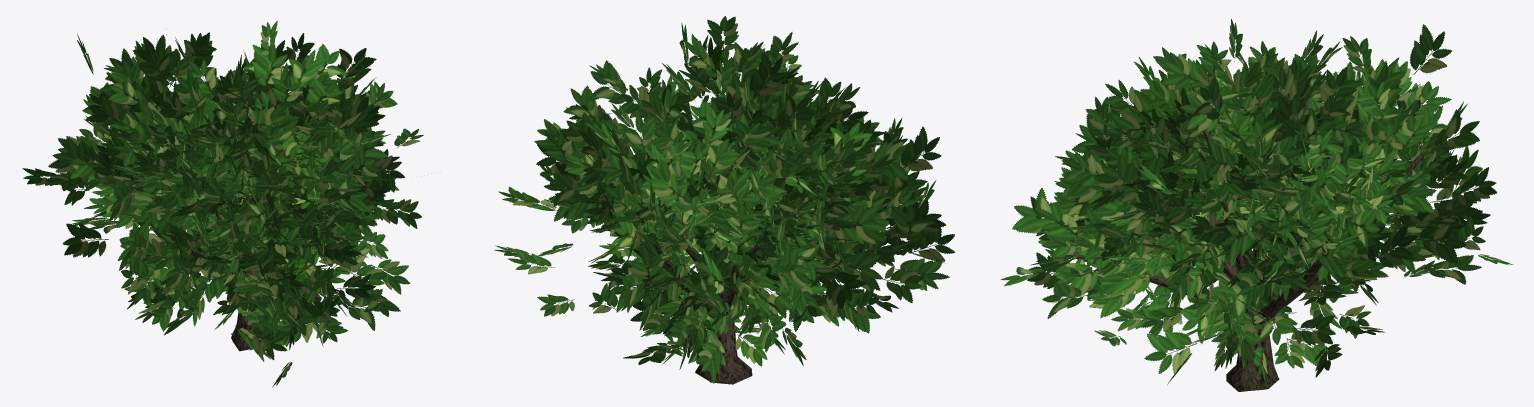
Rendered from himalayan-oak-buk_lod2.glb.
3 views of the same model, side by side, from view 1: azimuth 30°, elevation 25°; view 2: azimuth 150°, elevation 25°; view 3: azimuth 270°, elevation 25° (orthographic). The views are drawn at different scales.
Parts seen in each view (by area): view 1: Oak_C_LOD2_Leaves, Oak_B_LOD2_Leaves, Oak_A_LOD2_Leaves, Oak_A_LOD2_Trunk; view 2: Oak_C_LOD2_Leaves, Oak_B_LOD2_Leaves, Oak_A_LOD2_Leaves, Oak_C_LOD2_Branches, Oak_C_LOD2_Trunk, Oak_A_LOD2_Trunk; view 3: Oak_C_LOD2_Leaves, Oak_A_LOD2_Leaves, Oak_B_LOD2_Leaves, Oak_C_LOD2_Trunk, Oak_C_LOD2_Branches, Oak_A_LOD2_Branches.
Part boxes in pixels (x1=…): Oak_C_LOD2_Leaves: x1=22, y1=32, x2=400, y2=387; Oak_B_LOD2_Leaves: x1=84, y1=21, x2=379, y2=281; Oak_A_LOD2_Leaves: x1=96, y1=46, x2=423, y2=335; Oak_A_LOD2_Trunk: x1=232, y1=271, x2=258, y2=351; Oak_C_LOD2_Leaves: x1=494, y1=109, x2=954, y2=383; Oak_B_LOD2_Leaves: x1=599, y1=16, x2=908, y2=324; Oak_A_LOD2_Leaves: x1=536, y1=49, x2=897, y2=365; Oak_C_LOD2_Branches: x1=612, y1=202, x2=887, y2=318; Oak_C_LOD2_Trunk: x1=695, y1=328, x2=737, y2=382; Oak_A_LOD2_Trunk: x1=709, y1=322, x2=752, y2=384; Oak_C_LOD2_Leaves: x1=1000, y1=24, x2=1513, y2=379; Oak_A_LOD2_Leaves: x1=1051, y1=47, x2=1418, y2=384; Oak_B_LOD2_Leaves: x1=1076, y1=19, x2=1391, y2=325; Oak_C_LOD2_Trunk: x1=1226, y1=323, x2=1279, y2=391; Oak_C_LOD2_Branches: x1=1075, y1=155, x2=1421, y2=325; Oak_A_LOD2_Branches: x1=1170, y1=201, x2=1297, y2=299.
Bounding box in the file's own units: 36.74 × 31.69 × 41.05.
Materials: 2 (2 with a texture image).
